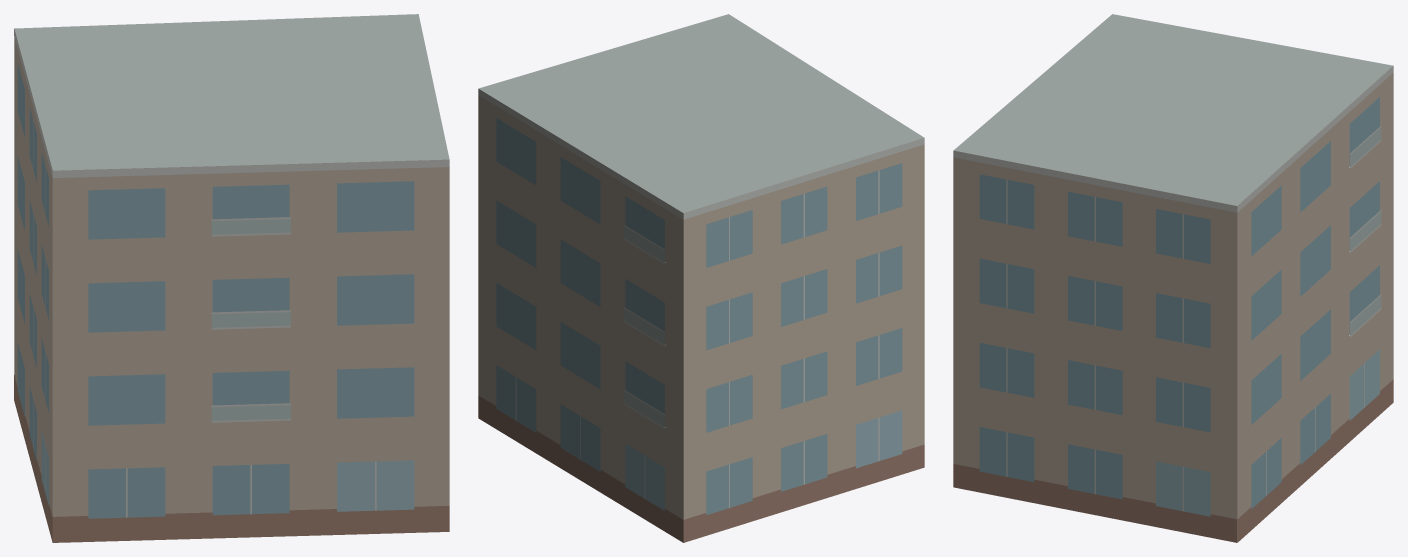
Rendered from survey-upis-32779602.glb.
3 views of the same model, side by side, from view 1: azimuth 30°, elevation 25°; view 2: azimuth 150°, elevation 25°; view 3: azimuth 270°, elevation 25° (orthographic). The views are drawn at different scales.
Parts seen in each view (by area): view 1: survey-upis-32779602.tmp; view 2: survey-upis-32779602.tmp; view 3: survey-upis-32779602.tmp.
Part boxes in pixels (<box>): survey-upis-32779602.tmp: <box>14,14,449,542</box>; survey-upis-32779602.tmp: <box>478,14,924,542</box>; survey-upis-32779602.tmp: <box>953,14,1393,542</box>.
Size of the model in its own units: 14.93 by 12.2 by 14.46.
